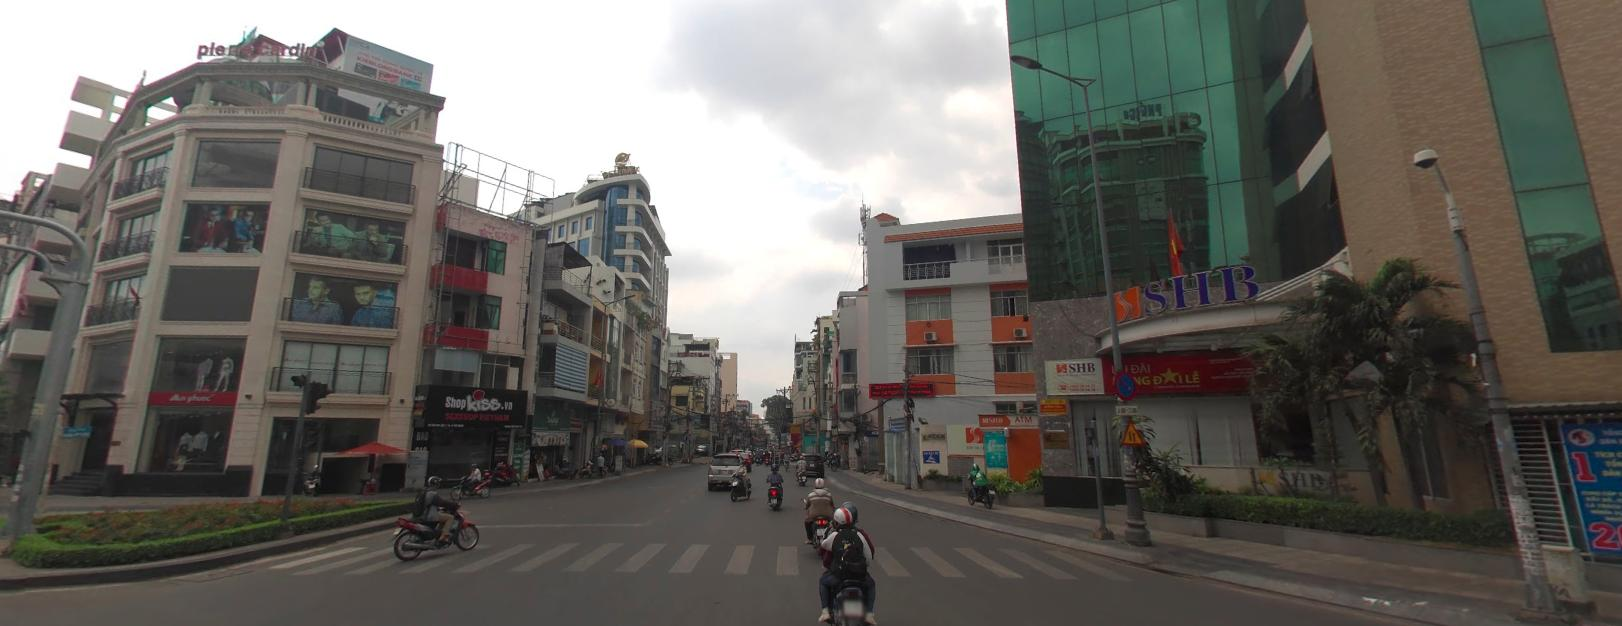Cam dung va do: (1113, 368, 1138, 400)
Nguy hiem: (1119, 417, 1147, 446)
